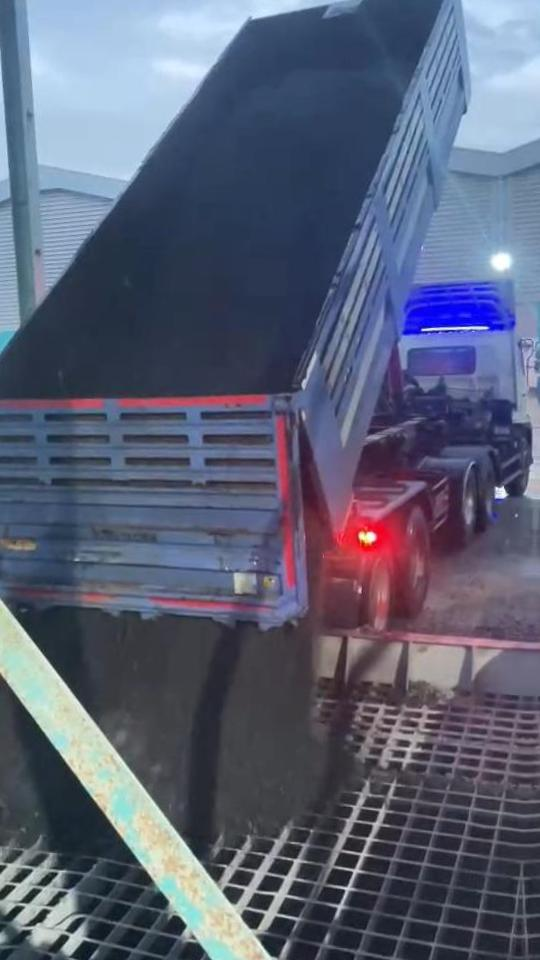gravel: (92, 72, 396, 397), (17, 608, 357, 854), (0, 684, 110, 852)
